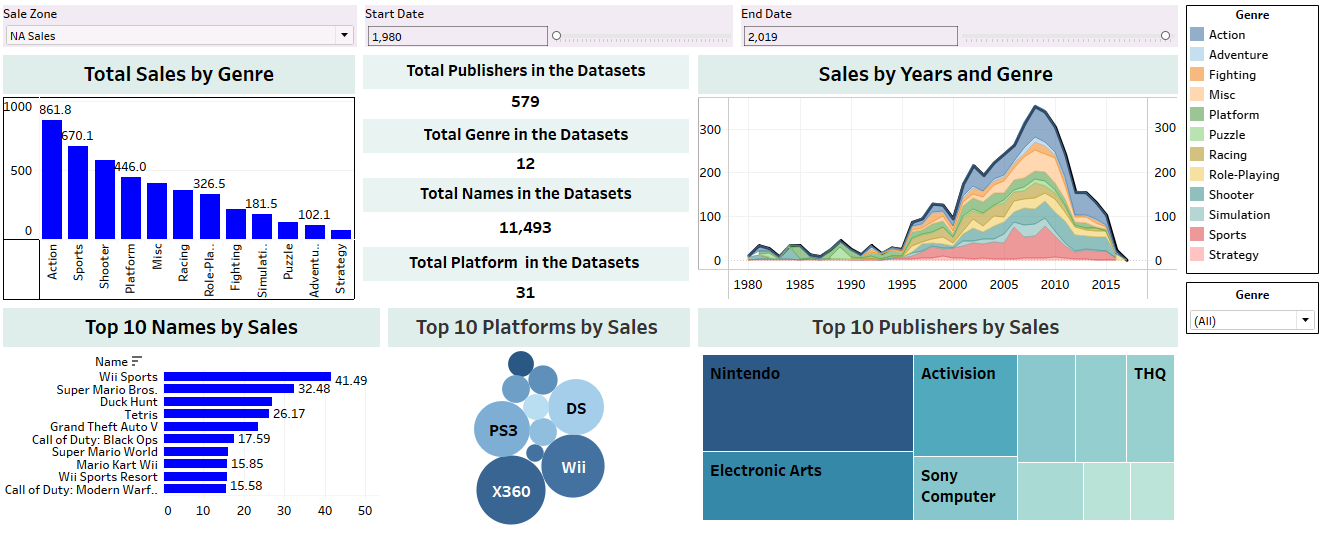

The dashboard page shown, as its layout file describes it:
{"tool":"tableau","page":{"name":"Dashboard 1","canvas":[1000,1000],"units":"permille","ordinal":0},"visuals":[{"type":"parameter","param":"[Parameters].[Parameter 1]","box":[6,13.3,269.6,93]},{"type":"parameter","param":"[Parameters].[Parameter 2]","box":[275.6,13.3,280.6,93]},{"type":"parameter","param":"[Parameters].[Parameter 3]","box":[556.2,13.3,331.3,93]},{"type":"legend","title":"Sales by Years and Genre ","param":"[federated.13hrlha1xw9qv31bjcq381s0noy0].[none:Genre:nk]","box":[887.5,13.3,106.5,461.7]},{"type":"worksheet","title":"Total Sales by Genre","mark":"Automatic","rows":["Calculation_1292814628182900736"],"cols":["Genre"],"box":[6,106.3,268.3,465.6]},{"type":"worksheet","title":"Total Publishers in the Datasets","mark":"Automatic","box":[274.3,106.3,225.3,135.5]},{"type":"worksheet","title":"Sales by Years and Genre ","mark":"Automatic","rows":["Calculation_1292814628182900736","Calculation_1292814628182900736"],"cols":["Year"],"box":[499.6,106.3,387.8,465.6]},{"type":"worksheet","title":"Total Genre in the Datasets","mark":"Automatic","box":[274.3,241.8,225.3,119.5]},{"type":"worksheet","title":"Total Names in the Datasets","mark":"Automatic","box":[274.3,361.3,225.3,119.4]},{"type":"filter","title":"Sales by Years and Genre ","param":"[federated.13hrlha1xw9qv31bjcq381s0noy0].[none:Genre:nk]","box":[887.5,475,106.5,100]},{"type":"worksheet","title":"Total Platform  in the Datasets ","mark":"Automatic","box":[274.3,480.7,225.3,91.2]},{"type":"worksheet","title":"Top 10 Names by Sales","mark":"Automatic","rows":["Name"],"cols":["Calculation_1292814628182900736"],"box":[6,571.9,287.2,414.7]},{"type":"worksheet","title":"Top 10 Platforms by Sales ","mark":"Circle","box":[293.2,571.9,230.7,414.7]},{"type":"worksheet","title":"Top 10 Publishers by Sales ","mark":"Automatic","box":[523.9,571.9,363.6,414.7]}]}

Visuals, with their boxes on the dashboard's canvas, which has no fixed pixel size, in thousandths of its width and height (x1, y1, x2, y2). These are canvas units, not pixel positions in the 1329x536 screenshot, which may show the page scaled, cropped or inside an application window:
parameter: 6,13,276,106
parameter: 276,13,556,106
parameter: 556,13,888,106
"Sales by Years and Genre " legend: 888,13,994,475
"Total Sales by Genre" worksheet: 6,106,274,572
"Total Publishers in the Datasets" worksheet: 274,106,500,242
"Sales by Years and Genre " worksheet: 500,106,887,572
"Total Genre in the Datasets" worksheet: 274,242,500,361
"Total Names in the Datasets" worksheet: 274,361,500,481
"Sales by Years and Genre " filter: 888,475,994,575
"Total Platform  in the Datasets " worksheet: 274,481,500,572
"Top 10 Names by Sales" worksheet: 6,572,293,987
"Top 10 Platforms by Sales " worksheet (Circle marks): 293,572,524,987
"Top 10 Publishers by Sales " worksheet: 524,572,888,987
